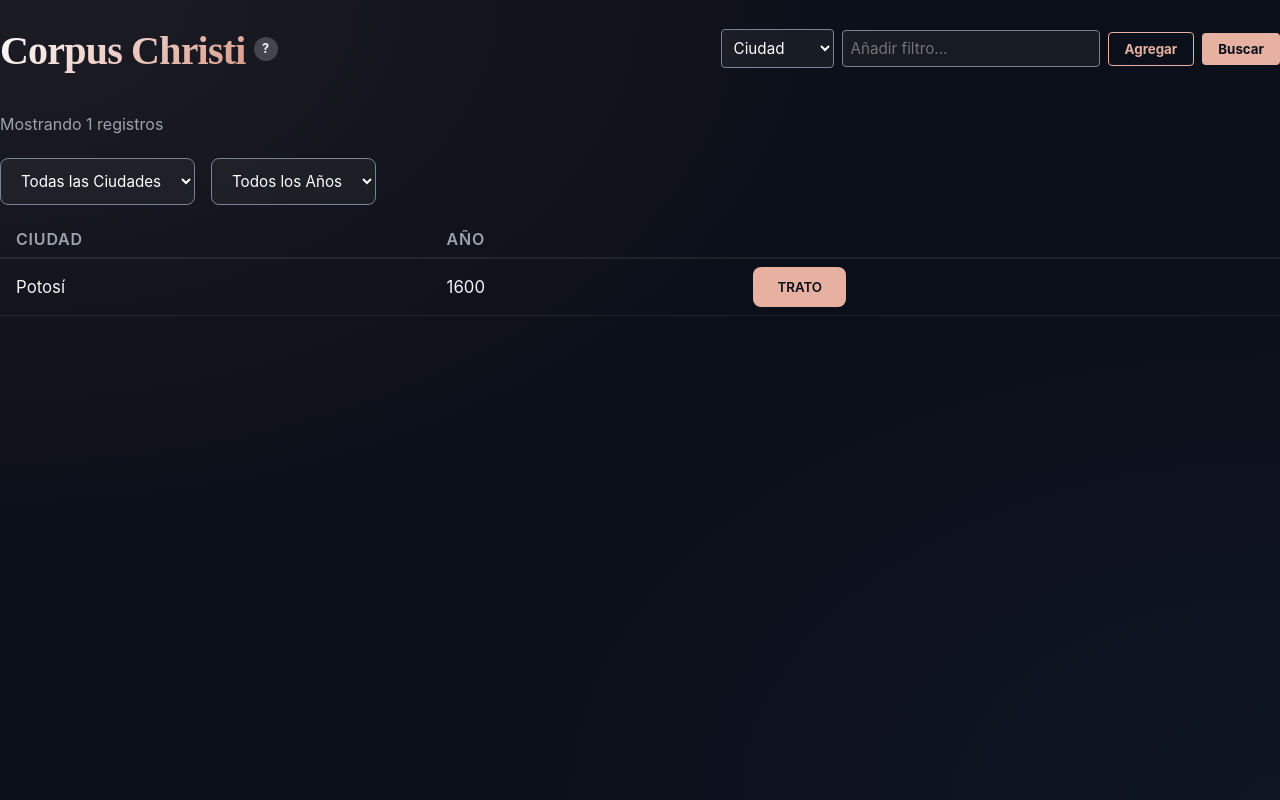
Corpus Christi: sigla en vez de número de registro › un clic abre la ventana con los detalles, sin consultas, y sin «Indicador de registro»
The image size is (1280, 800).
What coordinates should you click on to do the following:
click the button "TRATO"
I would click on:
 (800, 287)
Its box is [753,267,846,307].
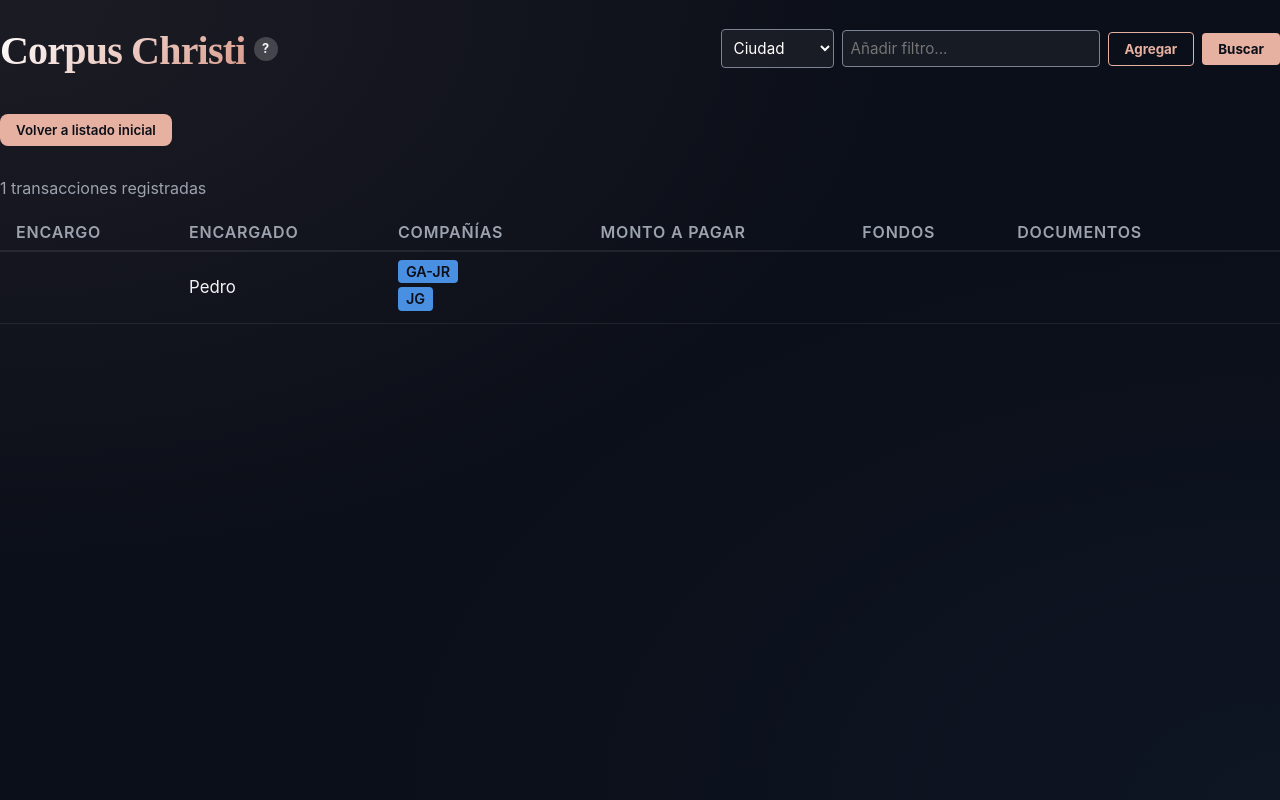
What coordinates should you click on to do the following:
click the button "GA-JR"
I would click on:
 (428, 272)
Its box is [398,260,458,283].
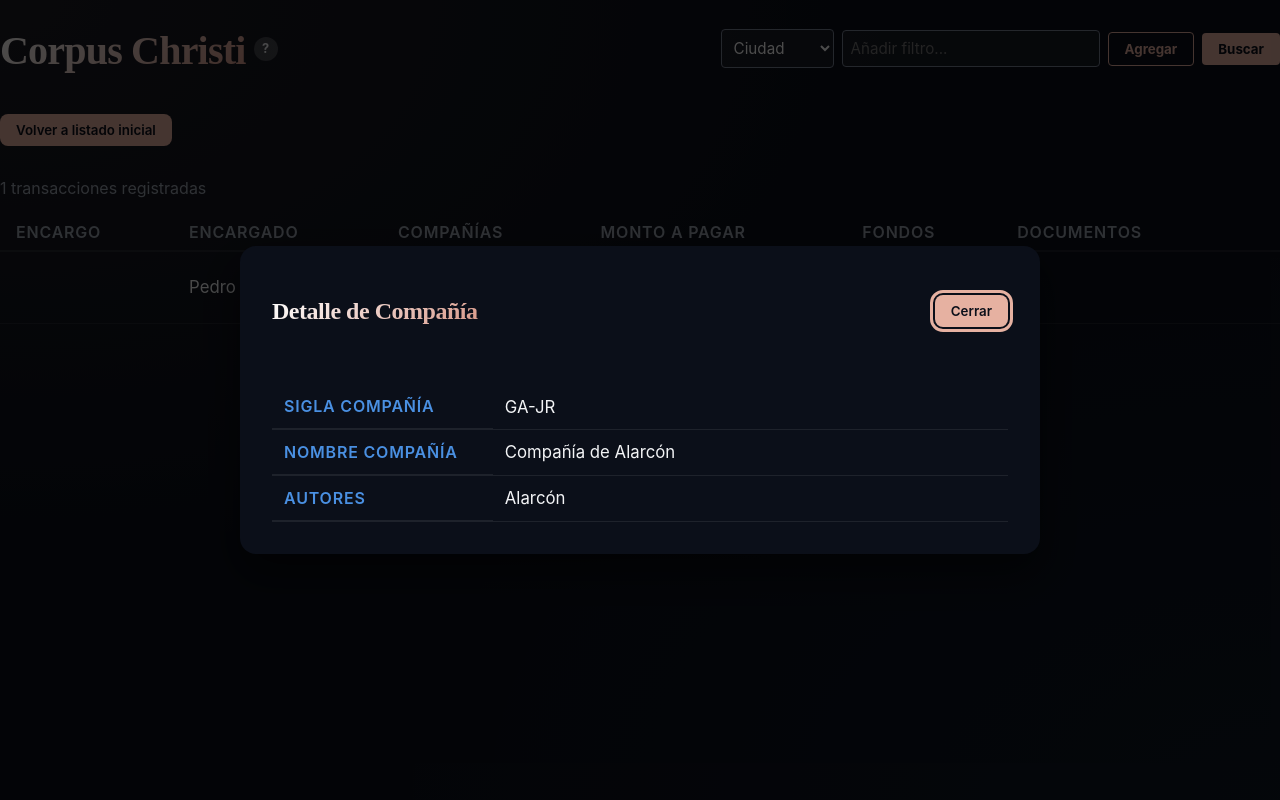
Expected: the heading "Detalle de Compañía" is shown, [272,298,478,324]
Expected: the text "Compañía de Alarcón" is shown, [493,429,1008,475]
